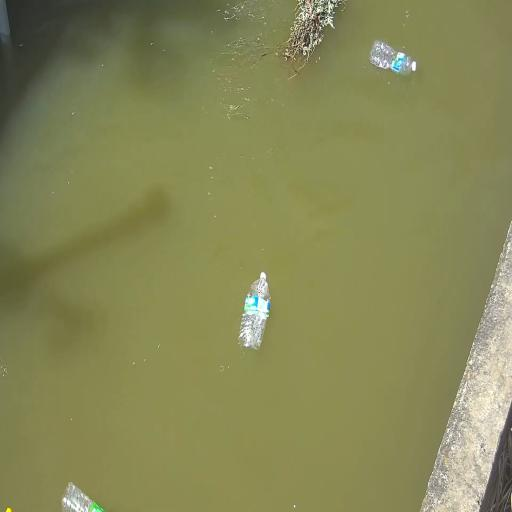plastic: (239, 271, 271, 351), (370, 36, 417, 76), (62, 482, 106, 512), (5, 506, 11, 512)
twig: (264, 0, 347, 81)
